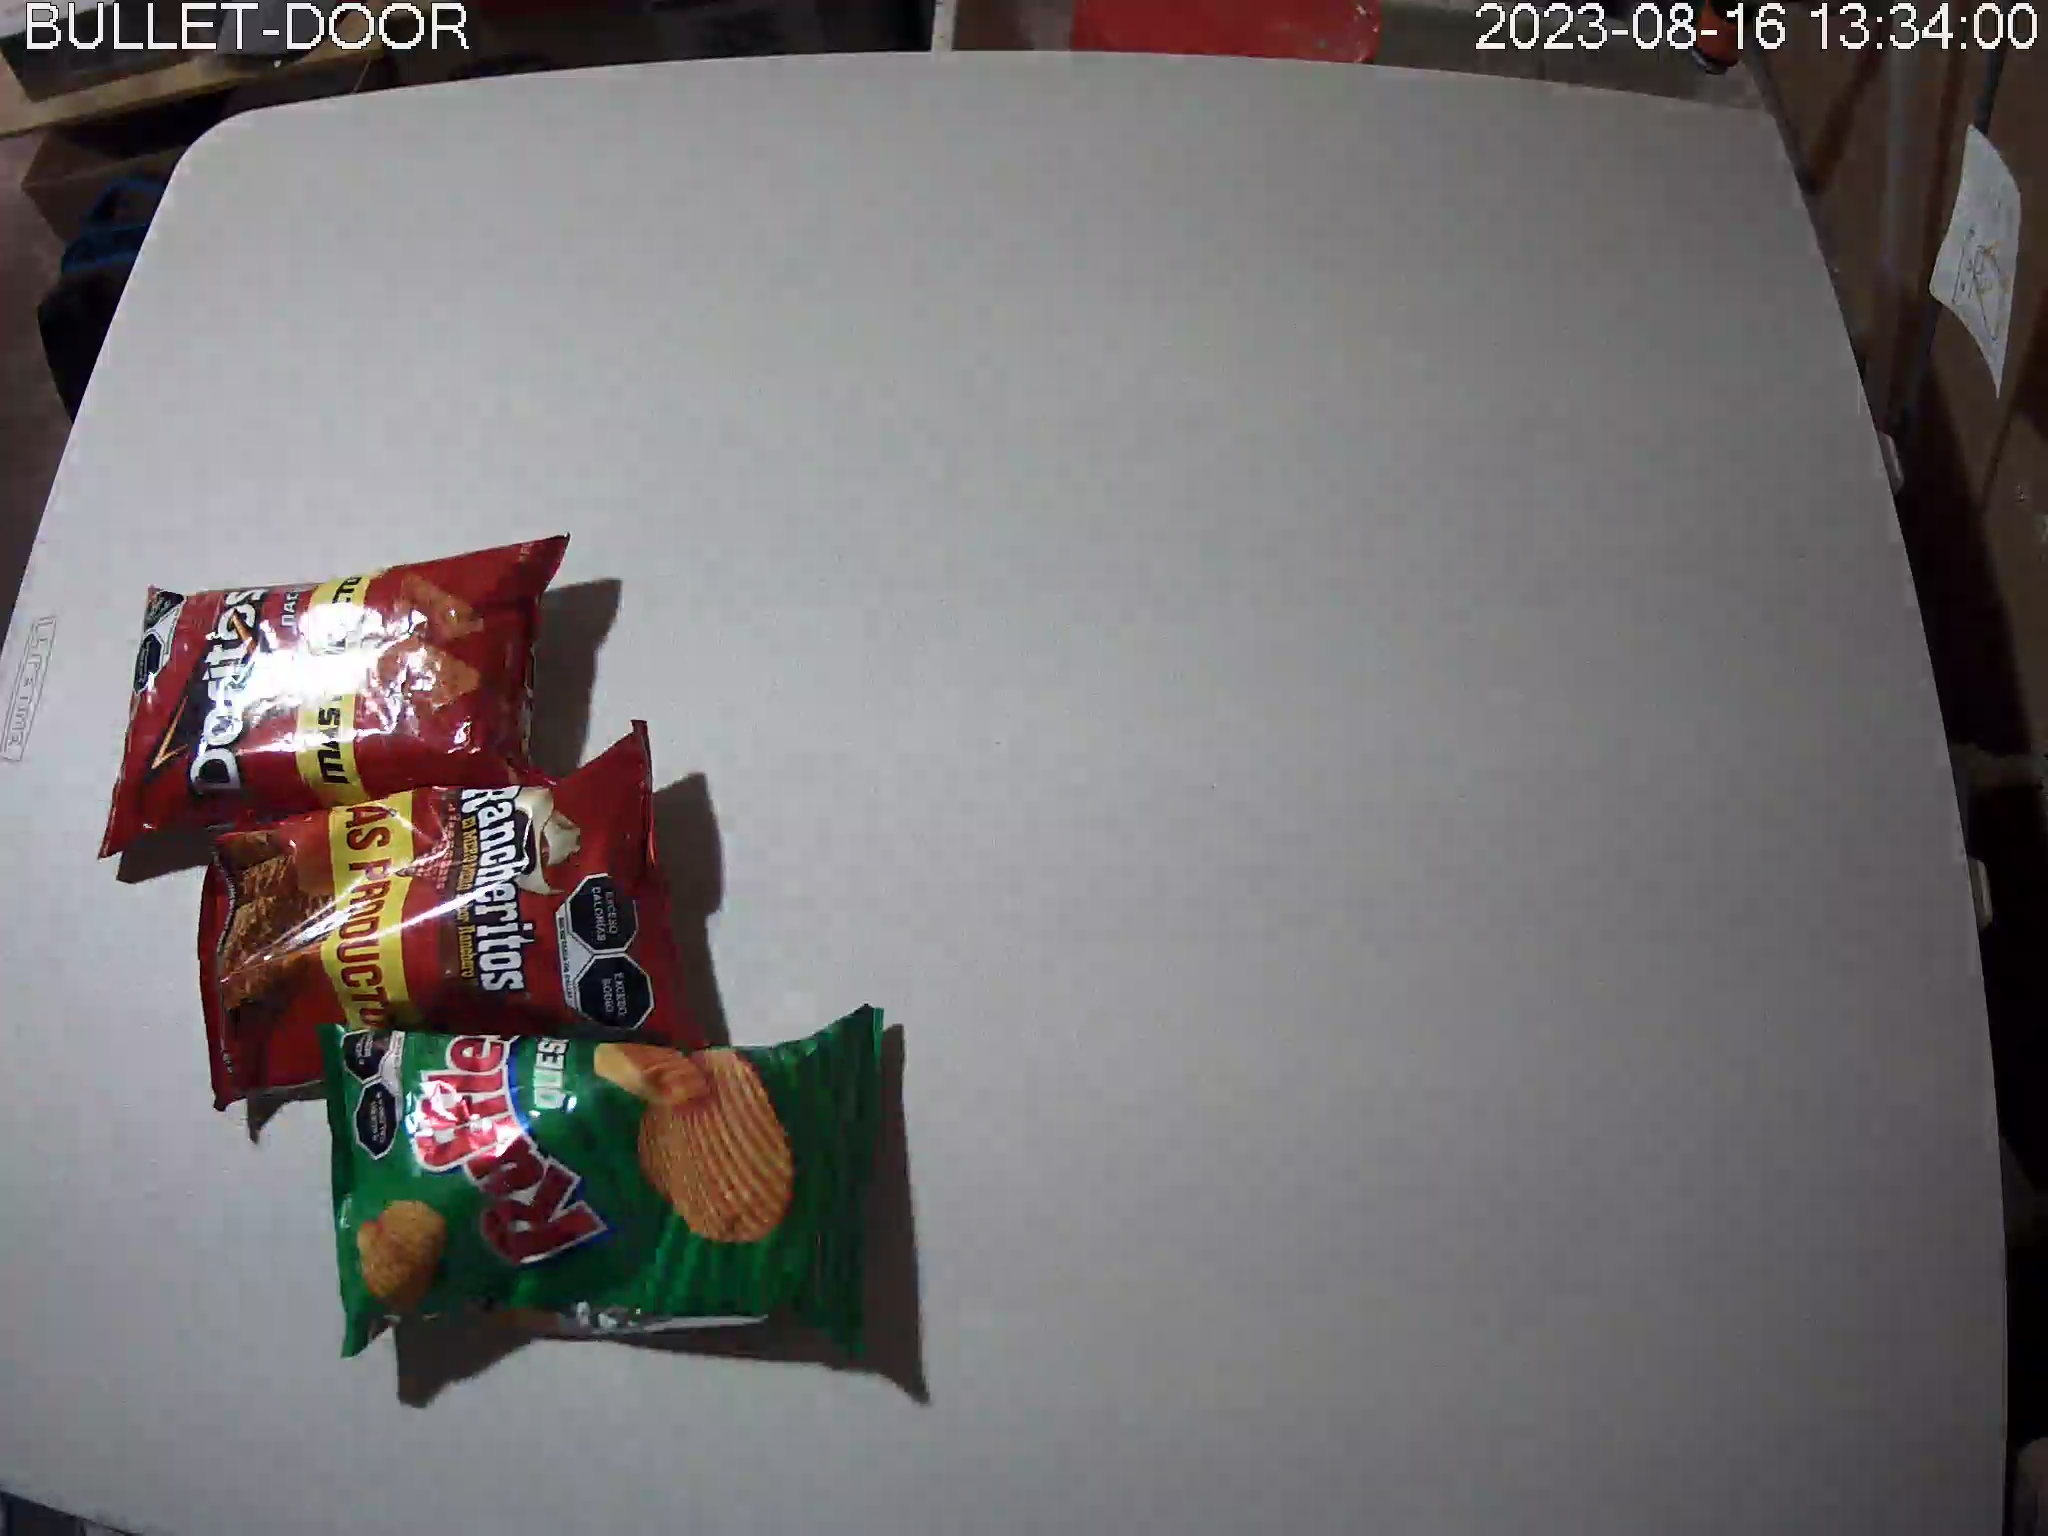DoritosN_61_F: (98, 528, 572, 868)
Rancheritos_58_F: (197, 716, 714, 1105)
RufflesQ_48_F: (316, 1005, 890, 1363)
